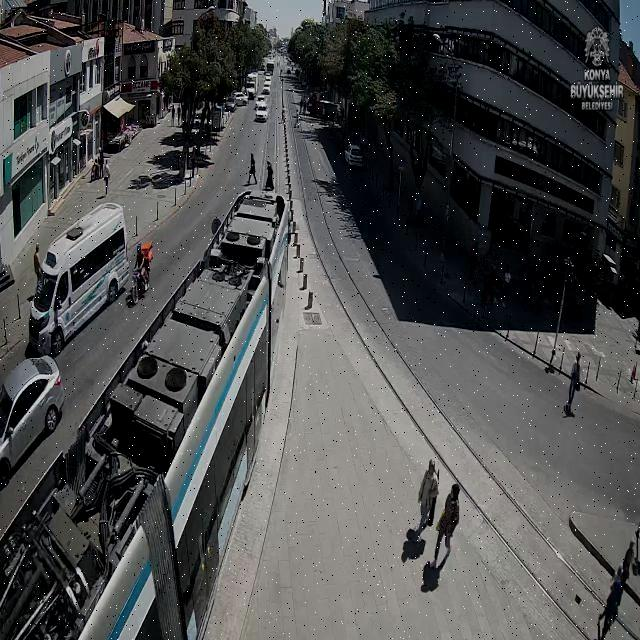Bus: (27, 201, 129, 358)
Car: (0, 351, 64, 490), (344, 143, 364, 168), (255, 101, 269, 122), (256, 94, 266, 103), (262, 84, 270, 95), (263, 72, 272, 81)
Cycle: (129, 240, 156, 309)
Truck: (171, 186, 290, 609)
